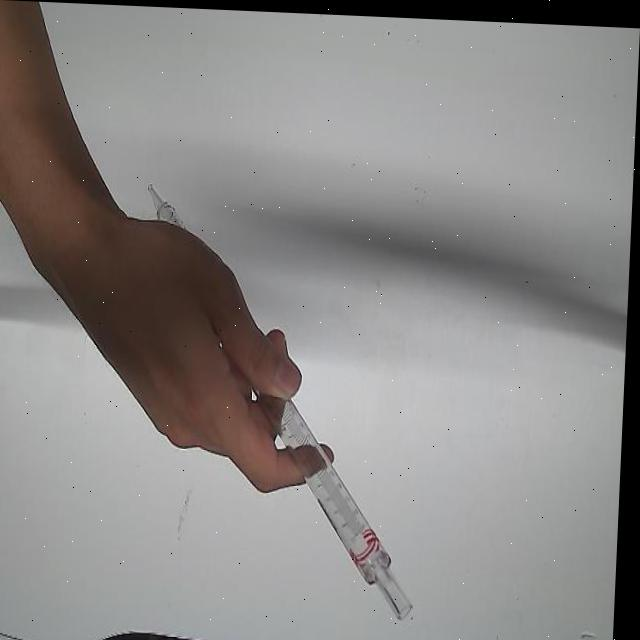Serelogical Pipet 25 mL: (130, 181, 437, 621)
